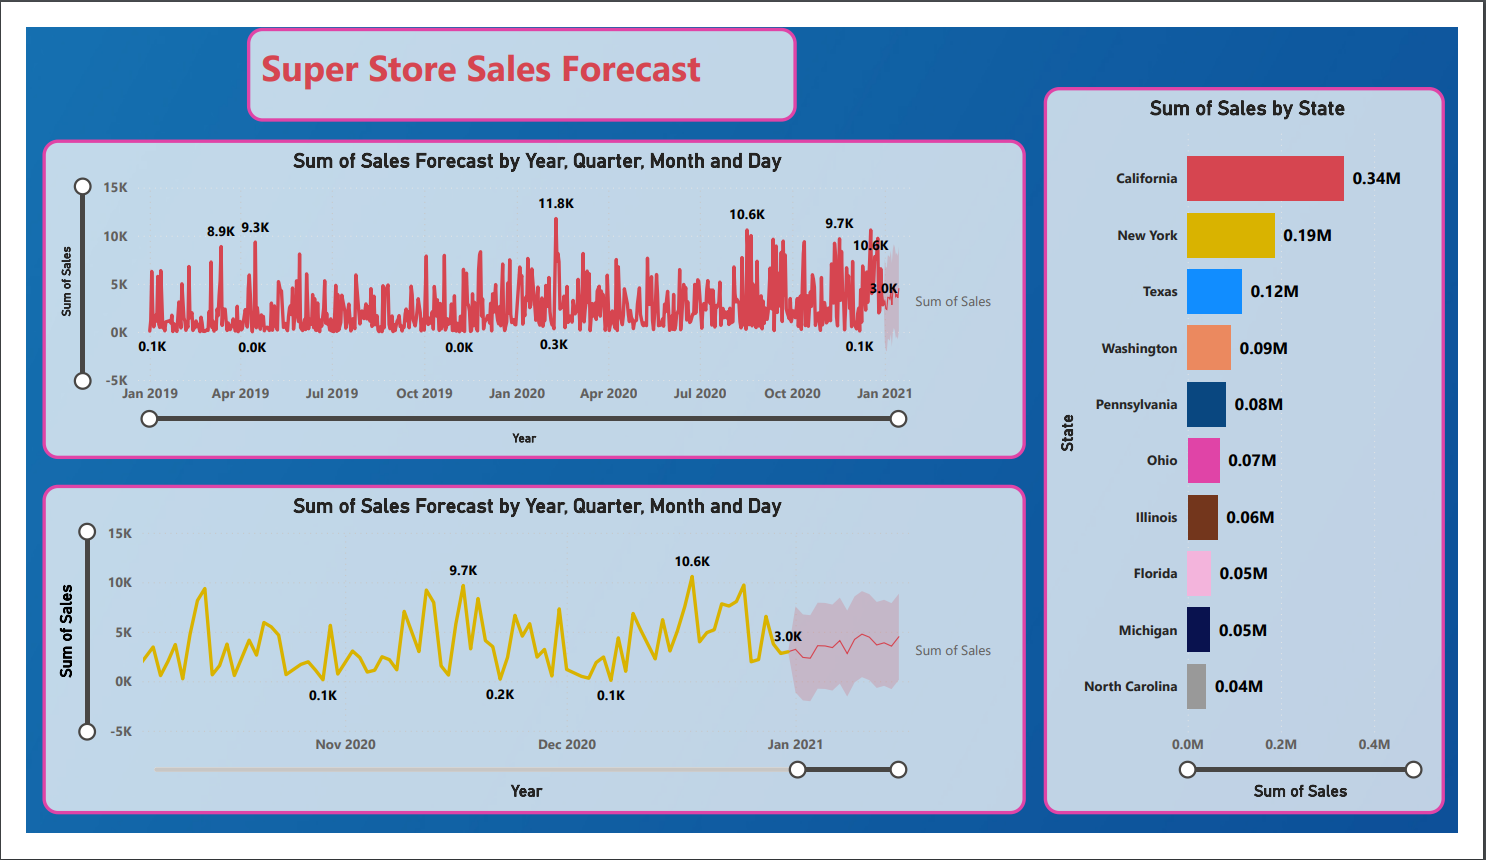

Layout of this report page (visuals, bound fields, positions):
{"tool":"powerbi","page":{"name":"Page 2","canvas":[1280,720],"ordinal":1},"visuals":[{"type":"lineChart","title":"Sum of Sales Forecast by Year, Quarter, Month and Day","fields":{"Y":["Sum(SuperStore_Sales_Dataset.Sales)"],"Category":["SuperStore_Sales_Dataset.Order Date.Variation.Date Hierarchy.Year","SuperStore_Sales_Dataset.Order Date.Variation.Date Hierarchy.Quarter","SuperStore_Sales_Dataset.Order Date.Variation.Date Hierarchy.Month","SuperStore_Sales_Dataset.Order Date.Variation.Date Hierarchy.Day"]},"box":[14.3,100,880,285.7],"z":0},{"type":"lineChart","title":"Sum of Sales Forecast by Year, Quarter, Month and Day","fields":{"Y":["Sum(SuperStore_Sales_Dataset.Sales)"],"Category":["SuperStore_Sales_Dataset.Order Date.Variation.Date Hierarchy.Year","SuperStore_Sales_Dataset.Order Date.Variation.Date Hierarchy.Quarter","SuperStore_Sales_Dataset.Order Date.Variation.Date Hierarchy.Month","SuperStore_Sales_Dataset.Order Date.Variation.Date Hierarchy.Day"]},"box":[14.3,408.6,880,295.7],"z":1000},{"type":"clusteredBarChart","fields":{"Category":["SuperStore_Sales_Dataset.State"],"Y":["Sum(SuperStore_Sales_Dataset.Sales)"]},"box":[910,52.9,358.6,651.4],"z":2000},{"type":"textbox","box":[197.1,0,491.4,84.3],"z":3000}]}

Visuals, with their boxes in screenshot pixels (x1, y1, x2, y2), scaled from the page's 1280x720 canvas onto the 1486x860 screenshot:
"Sum of Sales Forecast by Year, Quarter, Month and Day" lineChart: <box>17,119,1038,461</box>
"Sum of Sales Forecast by Year, Quarter, Month and Day" lineChart: <box>17,488,1038,841</box>
clusteredBarChart - SuperStore_Sales_Dataset.State x Sum(SuperStore_Sales_Dataset.Sales): <box>1056,63,1473,841</box>
textbox: <box>229,0,799,101</box>
